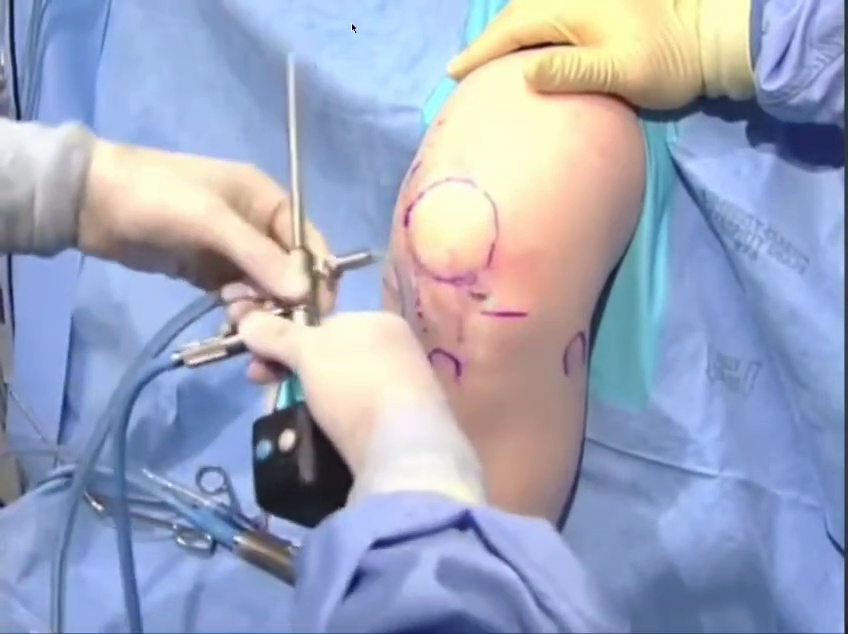arthroscope: (193, 291, 424, 571), (642, 0, 848, 145)
probe: (740, 135, 848, 564), (650, 102, 762, 268), (242, 420, 312, 470)
